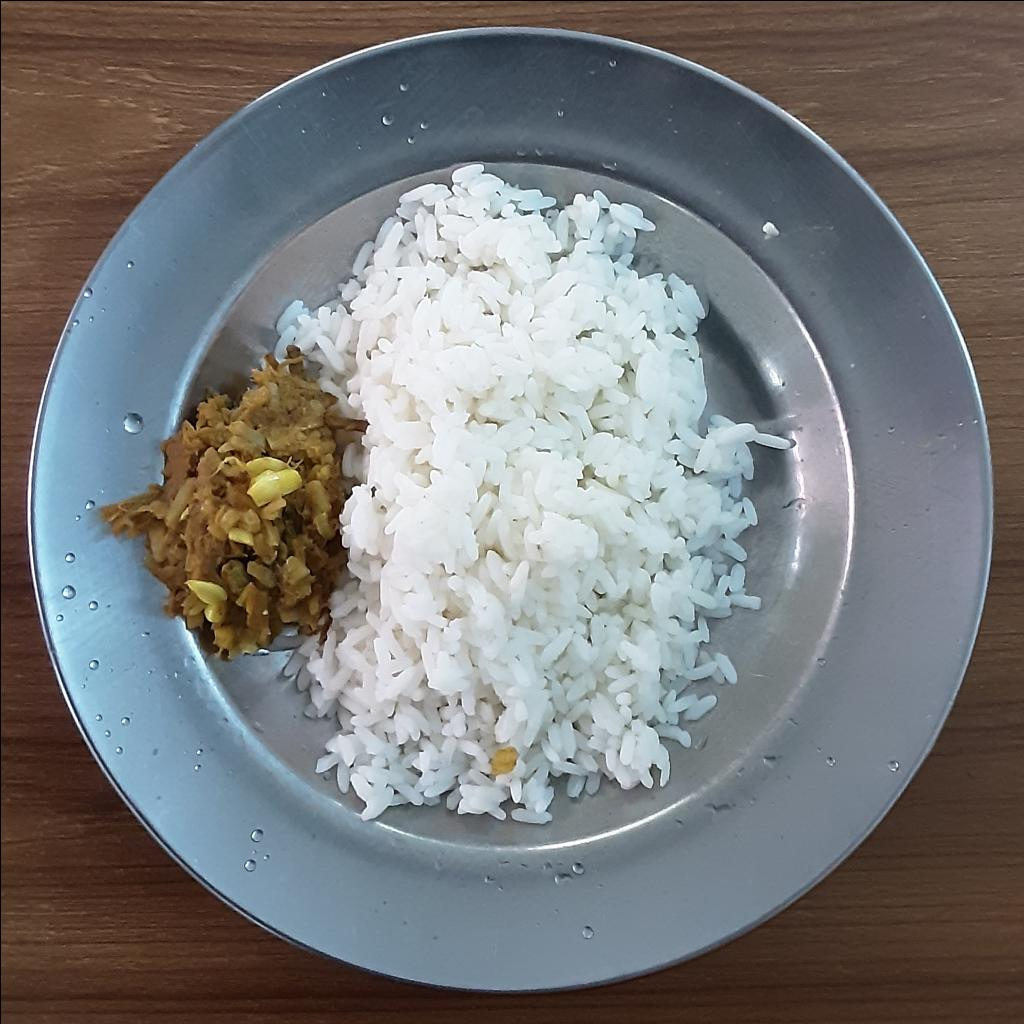rice: (270, 166, 789, 830)
vegetable: (97, 337, 365, 658)
